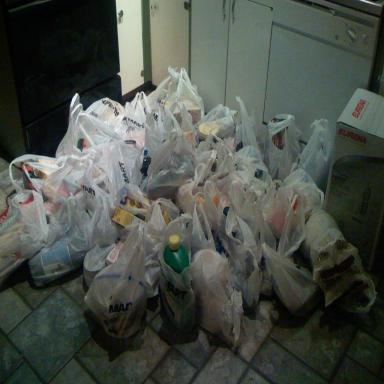clothing: (131, 77, 237, 219), (70, 105, 172, 219), (249, 181, 332, 321), (228, 96, 327, 190), (204, 150, 297, 248), (164, 242, 246, 344), (81, 234, 159, 337), (49, 133, 133, 226), (312, 211, 372, 341), (0, 171, 49, 269)
